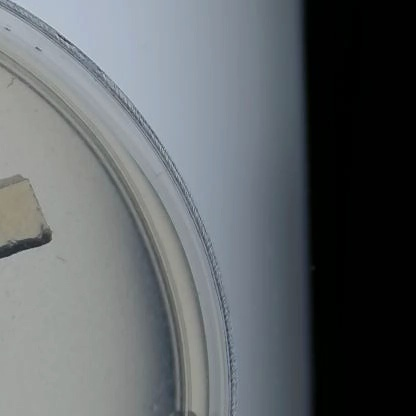worm: (56, 247, 69, 267), (4, 75, 17, 92)
